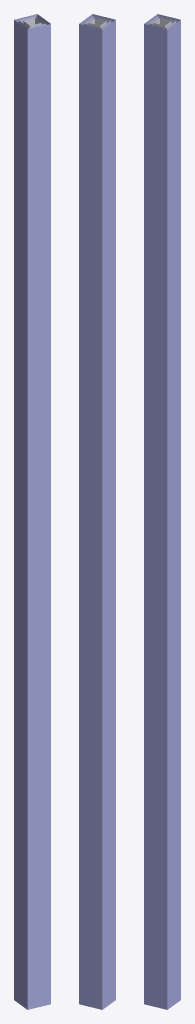
The model's file is lightning.obj.
3 views of the same model, side by side, from view 1: azimuth 30°, elevation 25°; view 2: azimuth 150°, elevation 25°; view 3: azimuth 330°, elevation 25° (orthographic).
Visible parts, largest first — view 1: cube.002_Mesh_2.001; view 2: cube.002_Mesh_2.001; view 3: cube.002_Mesh_2.001.
Part boxes in pixels (x1,y1,x2,y2): cube.002_Mesh_2.001: (14, 14, 50, 1009); cube.002_Mesh_2.001: (79, 14, 115, 1009); cube.002_Mesh_2.001: (144, 14, 180, 1009).
Bounding box in the file's own units: 0.5 × 20 × 0.5.
1 material, 1 textured.
